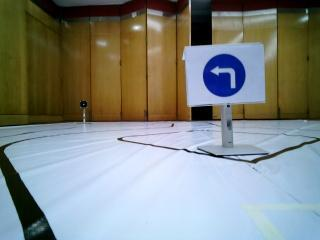left: (186, 48, 271, 102)
